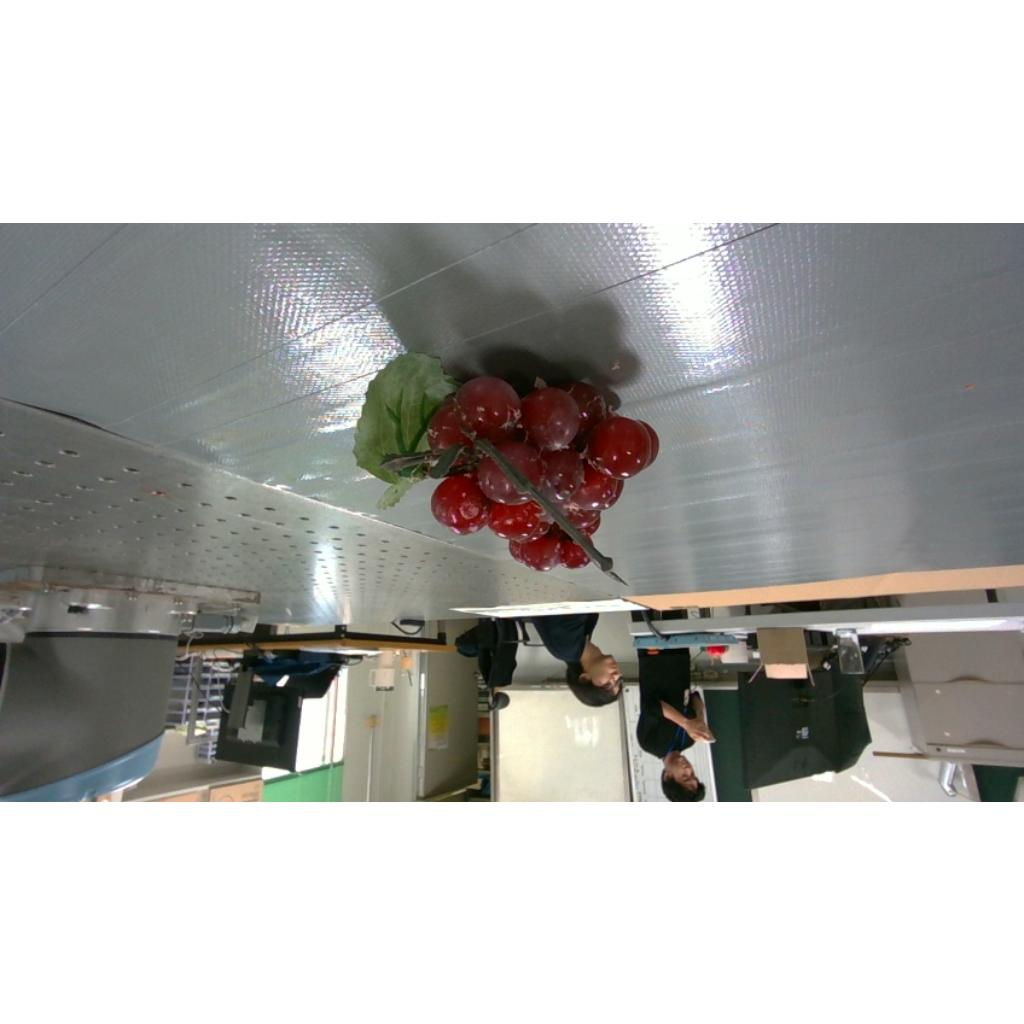grape: (354, 352, 658, 585)
